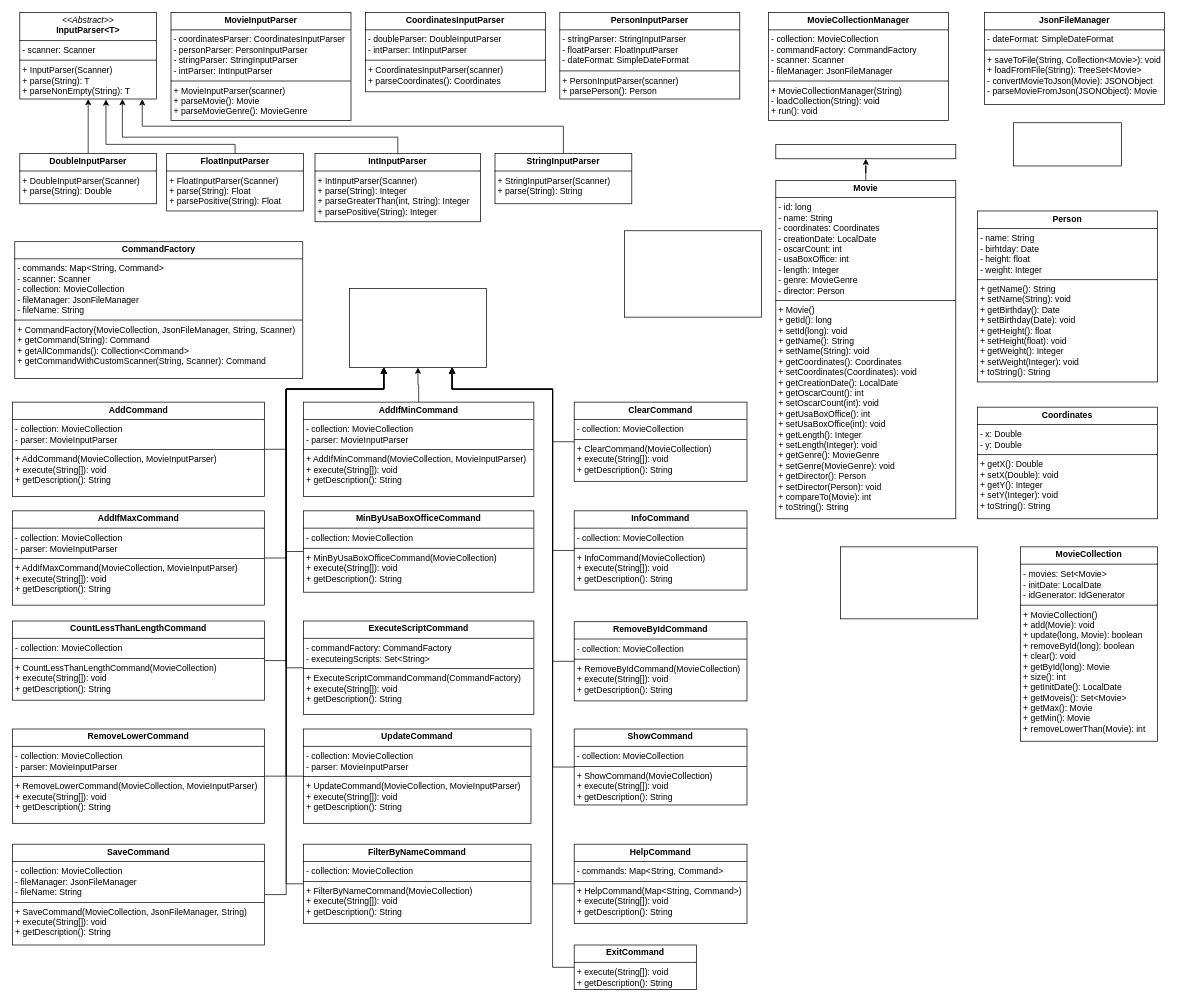
This 1177x1002 diagram has some shape labels left out. The centre of each missing label's shape, as x and y in pixels:
<<Enum>> MovieGenre ACTION THRILLER FANTASY + printGenres(): void: the point at 692,273
<<Interface>> Command + execute(String[]): void + getDescription(): String: the point at 417,328
Comparable<T>: the point at 865,151
IdGenerator - currentId: long + getNextID(): long + setCurrentId(id): void: the point at 908,582
Main + main(String[]): void: the point at 1067,144
